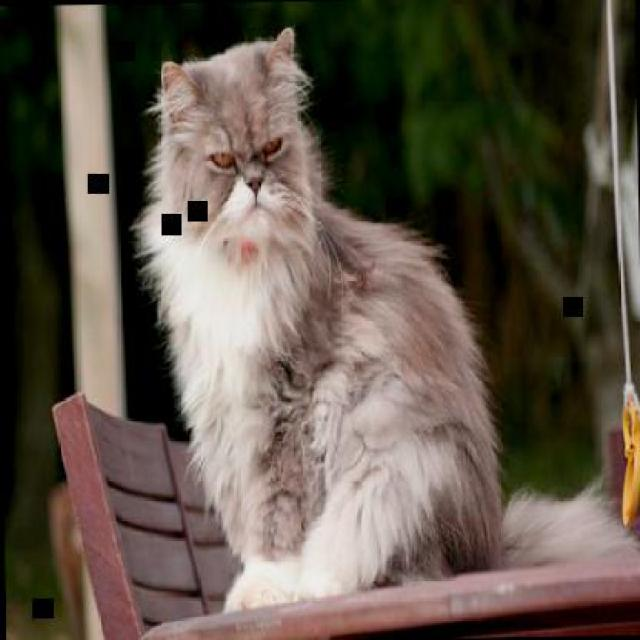cat: (150, 18, 638, 611)
